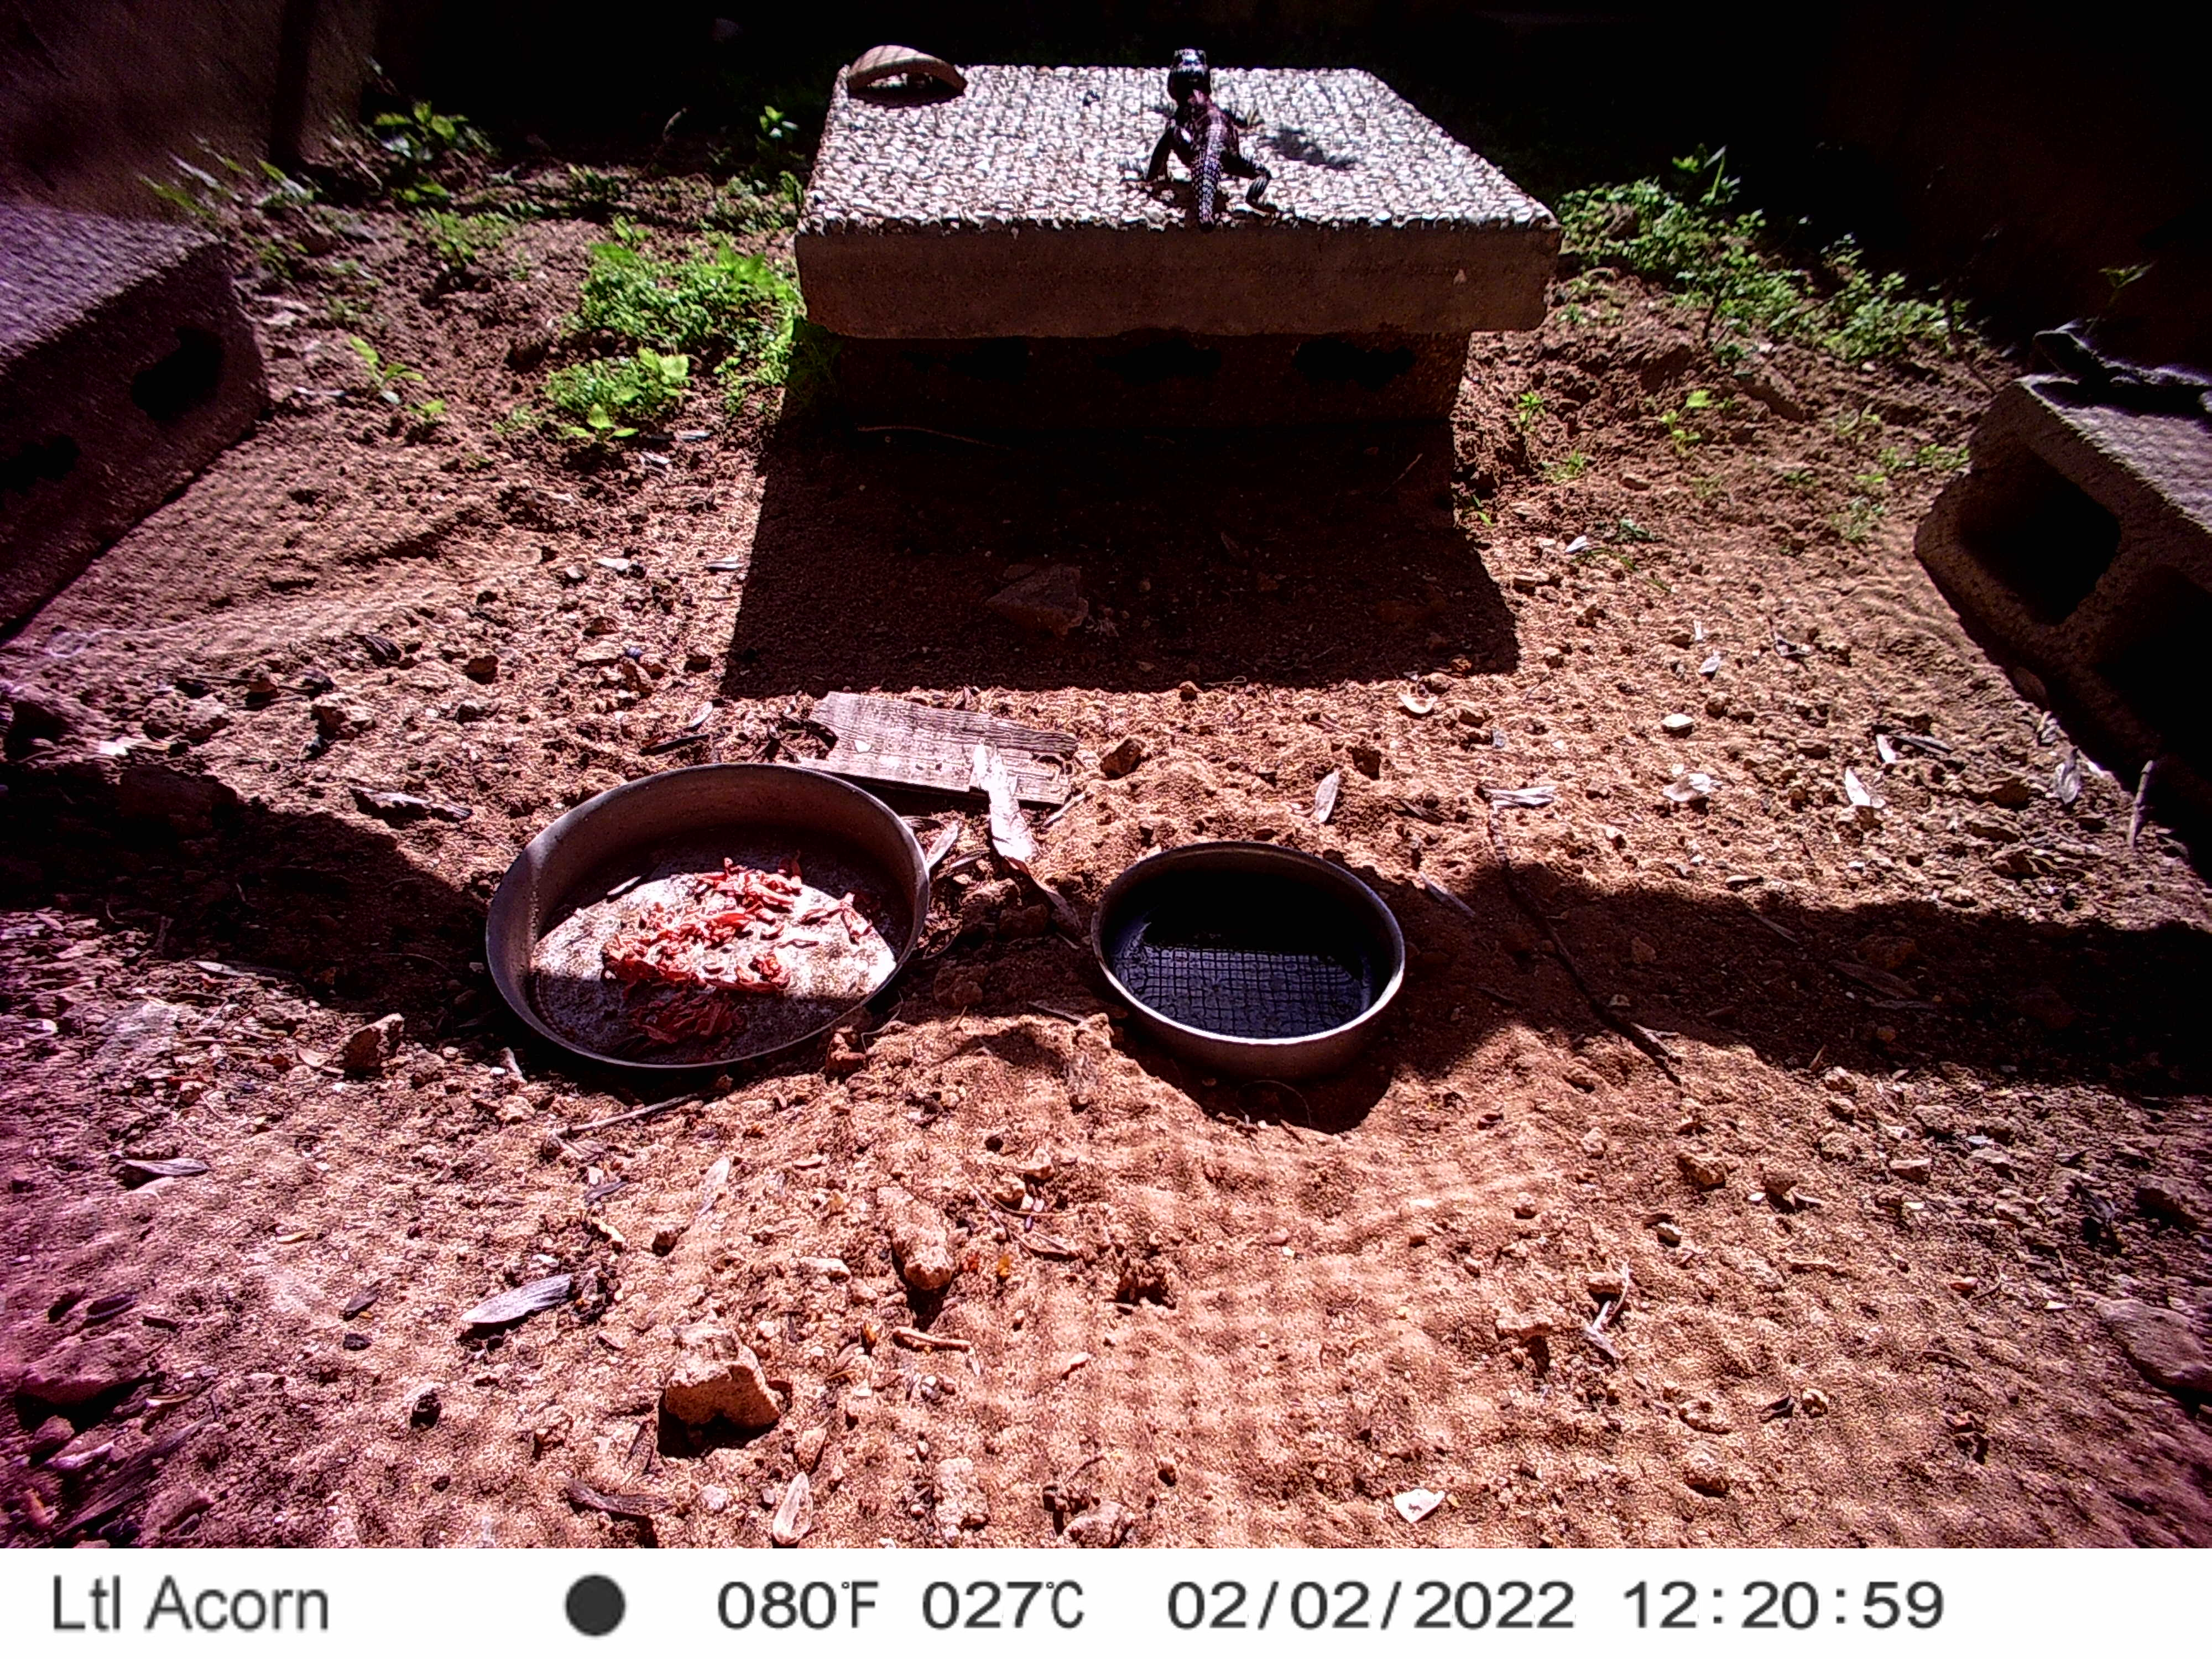lizard: (1749, 945, 2209, 1155), (1813, 249, 1916, 502)
